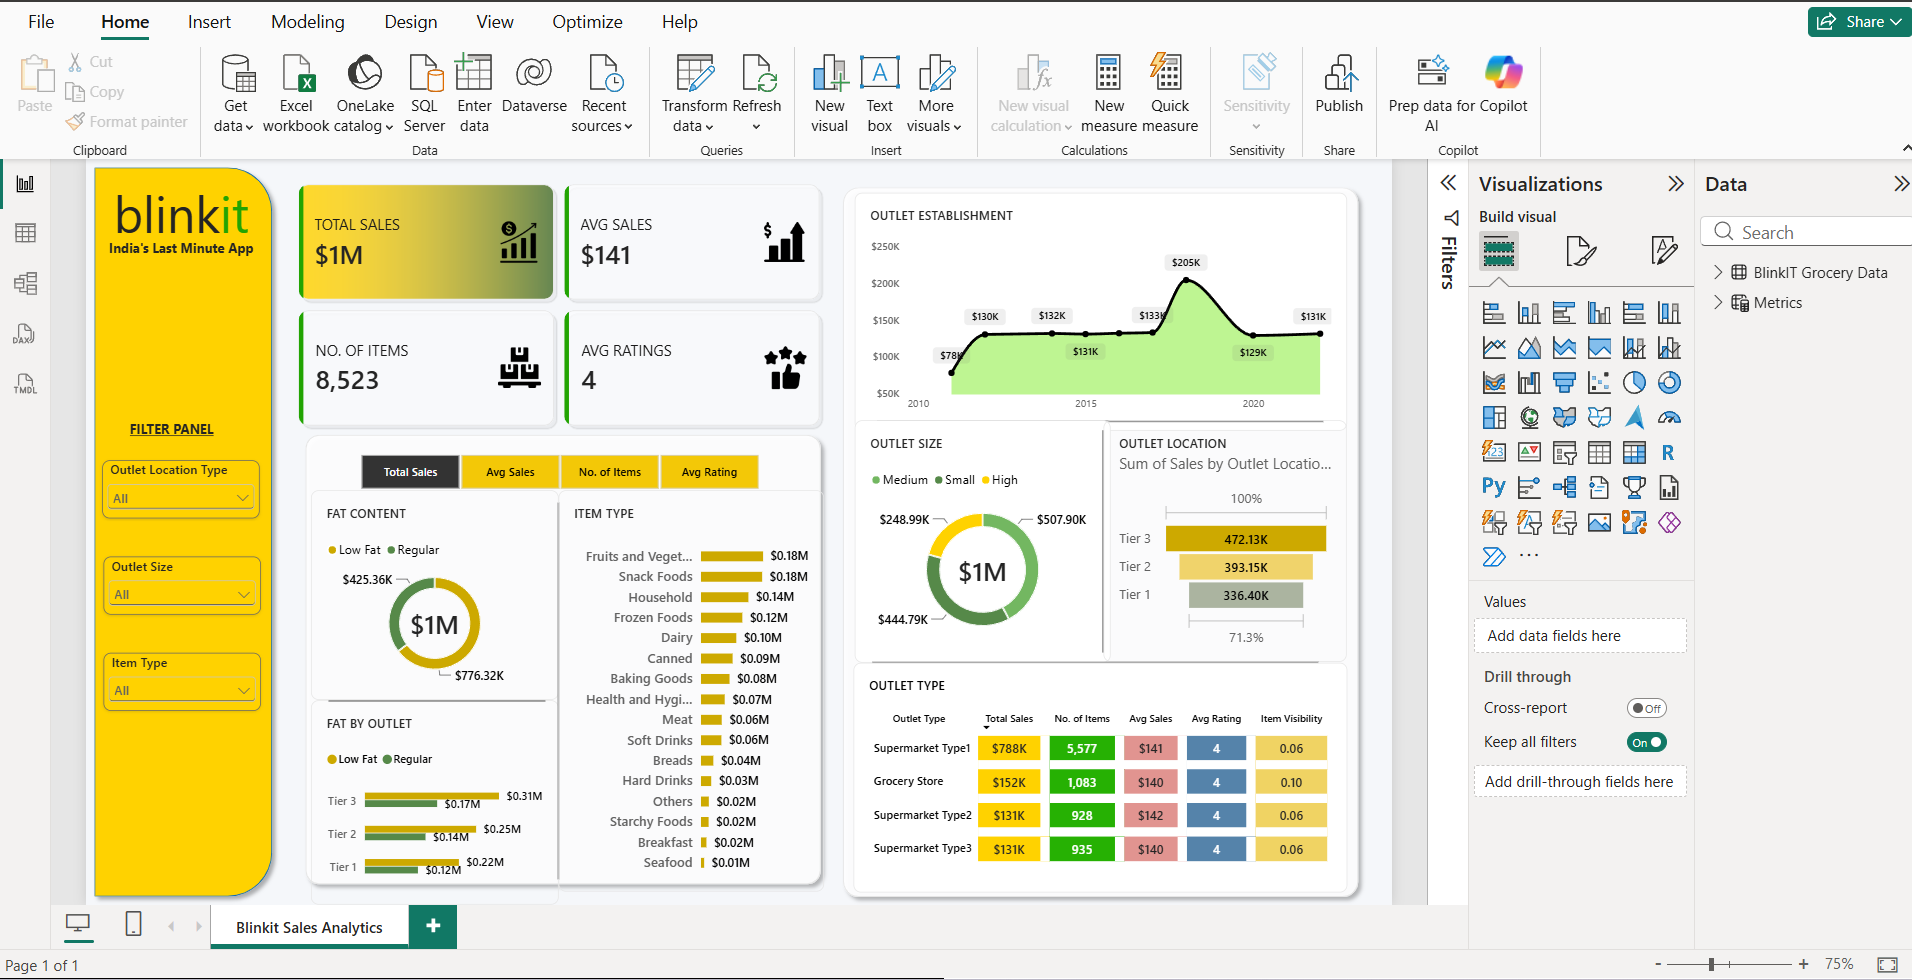

The page's visual inventory and layout, read from the dashboard file:
{"tool":"powerbi","page":{"name":"Blinkit Sales Analytics","canvas":[1400,800],"ordinal":0},"visuals":[{"type":"shape","box":[0,0,208.6,800],"z":0},{"type":"textbox","box":[18,21,169.6,76.5],"z":1000},{"type":"textbox","box":[18,85.5,169.6,27],"z":2000},{"type":"cardVisual","fields":{"Data":["BlinkIT Grocery Data.Total Sales","BlinkIT Grocery Data.Avg Sales","BlinkIT Grocery Data.No. of Items","BlinkIT Grocery Data.Avg Rating"]},"box":[222.1,21,570,270],"z":3000},{"type":"shape","box":[227,286.3,570.3,499.8],"z":4000},{"type":"donutChart","title":"FAT CONTENT","fields":{"Category":["BlinkIT Grocery Data.Item Fat Content"],"Y":["BlinkIT Grocery Data.Total Sales"]},"box":[241.6,355.7,265.7,225.1],"z":5000},{"type":"slicer","fields":{"Values":["Metrics.Metrics"]},"box":[274.7,315.2,465.3,40.5],"z":6000},{"type":"clusteredBarChart","title":"FAT BY OUTLET","fields":{"Category":["BlinkIT Grocery Data.Outlet Location Type"],"Series":["BlinkIT Grocery Data.Item Fat Content"],"Y":["BlinkIT Grocery Data.Total Sales"]},"box":[241.6,580.8,265.7,219.1],"z":7000},{"type":"shape","box":[259.6,561.3,232.6,39],"z":8000},{"type":"shape","box":[501.3,369.2,10.5,403.7],"z":9000},{"type":"barChart","title":"ITEM TYPE","fields":{"Category":["BlinkIT Grocery Data.Item Type"],"Y":["BlinkIT Grocery Data.Total Sales"]},"box":[507.3,355.7,285.2,430.7],"z":10000},{"type":"shape","box":[803,21,570.3,778.9],"z":11000},{"type":"lineChart","title":"OUTLET ESTABLISHMENT","fields":{"Category":["BlinkIT Grocery Data.Outlet Establishment Year"],"Y":["BlinkIT Grocery Data.Total Sales"]},"box":[824,36,528.3,255.1],"z":12000},{"type":"shape","box":[848,270.2,478.8,21],"z":13000},{"type":"donutChart","title":"OUTLET SIZE","fields":{"Category":["BlinkIT Grocery Data.Outlet Size"],"Y":["BlinkIT Grocery Data.Total Sales"]},"box":[824,280.7,274.7,259.6],"z":14000},{"type":"shape","box":[1083.6,291.2,15,238.6],"z":15000},{"type":"funnel","title":"OUTLET LOCATION","fields":{"Category":["BlinkIT Grocery Data.Outlet Location Type"],"Y":["Sum(BlinkIT Grocery Data.Sales)"]},"box":[1091.8,280.4,261.1,259.6],"z":16000},{"type":"shape","box":[843.5,529.8,478.8,21],"z":17000},{"type":"pivotTable","title":"OUTLET TYPE","fields":{"Rows":["BlinkIT Grocery Data.Outlet Type"],"Values":["BlinkIT Grocery Data.Total Sales","BlinkIT Grocery Data.No. of Items","BlinkIT Grocery Data.Avg Sales","BlinkIT Grocery Data.Avg Rating","Avg(BlinkIT Grocery Data.Item Visibility)"]},"box":[823.3,539.9,529.6,246.2],"z":18000},{"type":"slicer","fields":{"Values":["BlinkIT Grocery Data.Outlet Location Type"]},"box":[17.8,323.4,169.1,62.3],"z":18001},{"type":"slicer","fields":{"Values":["BlinkIT Grocery Data.Outlet Size"]},"box":[19.3,425.7,169.1,62.3],"z":18003},{"type":"slicer","fields":{"Values":["BlinkIT Grocery Data.Item Type"]},"box":[19.3,529.6,169.1,62.3],"z":18004},{"type":"textbox","box":[47.5,280.4,108.3,34.1],"z":18005}]}

Visuals, with their boxes on the page's 1400x800 design canvas (x1, y1, x2, y2). These are canvas units, not pixel positions in the 1912x980 screenshot, which may show the page scaled, cropped or inside an application window:
shape: region(0, 0, 209, 800)
textbox: region(18, 21, 188, 98)
textbox: region(18, 86, 188, 112)
cardVisual - BlinkIT Grocery Data.Total Sales x BlinkIT Grocery Data.Avg Sales: region(222, 21, 792, 291)
shape: region(227, 286, 797, 786)
"FAT CONTENT" donutChart: region(242, 356, 507, 581)
slicer - Metrics.Metrics: region(275, 315, 740, 356)
"FAT BY OUTLET" clusteredBarChart: region(242, 581, 507, 800)
shape: region(260, 561, 492, 600)
shape: region(501, 369, 512, 773)
"ITEM TYPE" barChart: region(507, 356, 792, 786)
shape: region(803, 21, 1373, 800)
"OUTLET ESTABLISHMENT" lineChart: region(824, 36, 1352, 291)
shape: region(848, 270, 1327, 291)
"OUTLET SIZE" donutChart: region(824, 281, 1099, 540)
shape: region(1084, 291, 1099, 530)
"OUTLET LOCATION" funnel: region(1092, 280, 1353, 540)
shape: region(844, 530, 1322, 551)
"OUTLET TYPE" pivotTable: region(823, 540, 1353, 786)
slicer - BlinkIT Grocery Data.Outlet Location Type: region(18, 323, 187, 386)
slicer - BlinkIT Grocery Data.Outlet Size: region(19, 426, 188, 488)
slicer - BlinkIT Grocery Data.Item Type: region(19, 530, 188, 592)
textbox: region(48, 280, 156, 314)
